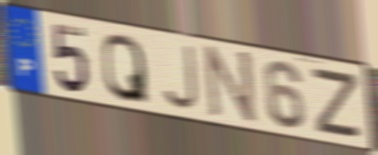5: (51, 21, 89, 94)
6: (262, 59, 306, 130)
J: (159, 42, 200, 112)
N: (204, 43, 258, 129)
Q: (101, 32, 151, 106)
Z: (311, 67, 363, 142)
